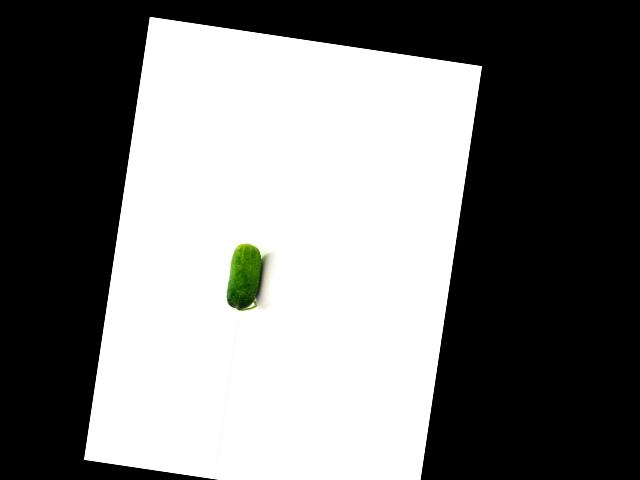cucumber: (224, 240, 266, 312)
